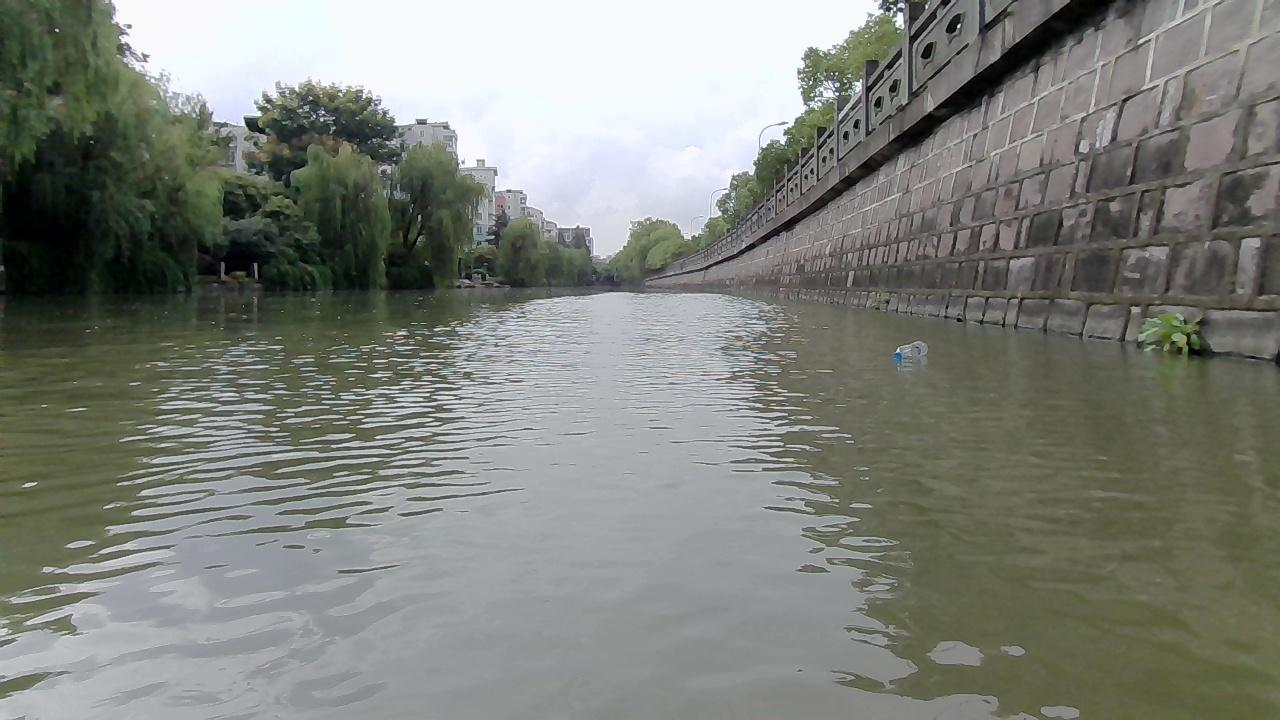bottle: (890, 340, 928, 359)
